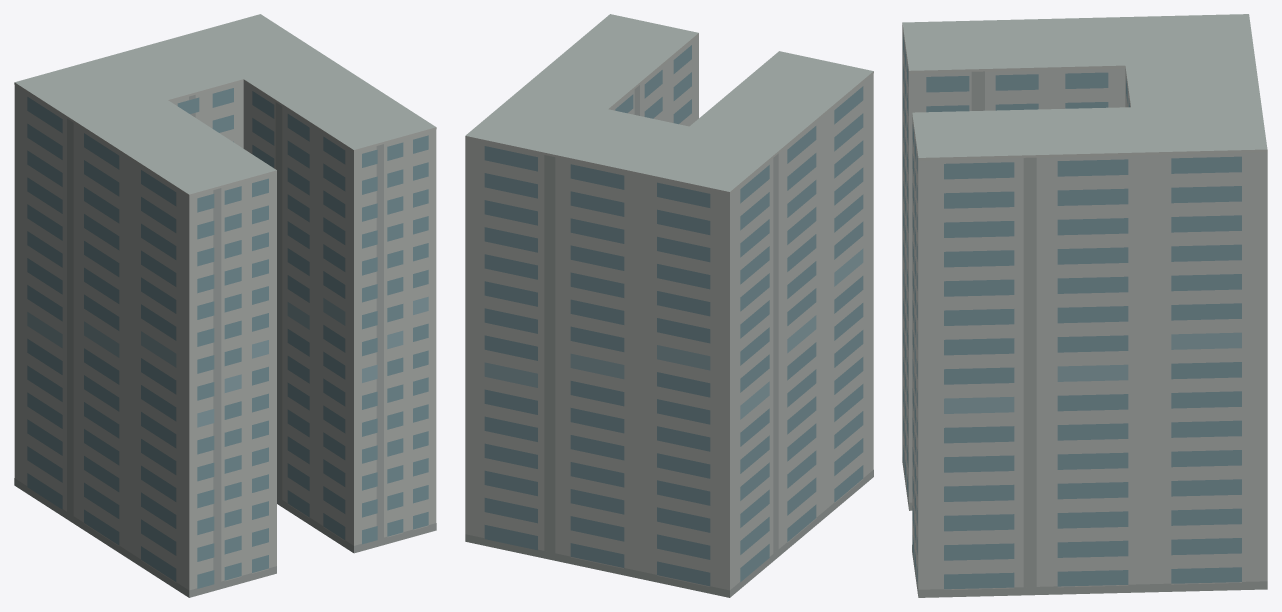
Rendered from residential-e6136e2b-af43-48ac-b7b6-52b61403e463.glb.
3 views of the same model, side by side, from view 1: azimuth 30°, elevation 25°; view 2: azimuth 150°, elevation 25°; view 3: azimuth 270°, elevation 25° (orthographic). The views are drawn at different scales.
Visible parts, largest first — view 1: residential-e6136e2b-af43-48ac-b7b6-52b61403e463.tmp; view 2: residential-e6136e2b-af43-48ac-b7b6-52b61403e463.tmp; view 3: residential-e6136e2b-af43-48ac-b7b6-52b61403e463.tmp.
Part boxes in pixels (x1=…): residential-e6136e2b-af43-48ac-b7b6-52b61403e463.tmp: x1=14, y1=14, x2=436, y2=597; residential-e6136e2b-af43-48ac-b7b6-52b61403e463.tmp: x1=465, y1=14, x2=873, y2=597; residential-e6136e2b-af43-48ac-b7b6-52b61403e463.tmp: x1=902, y1=14, x2=1267, y2=597.
Bounding box in the file's own units: 30.89 × 44 × 33.1.
